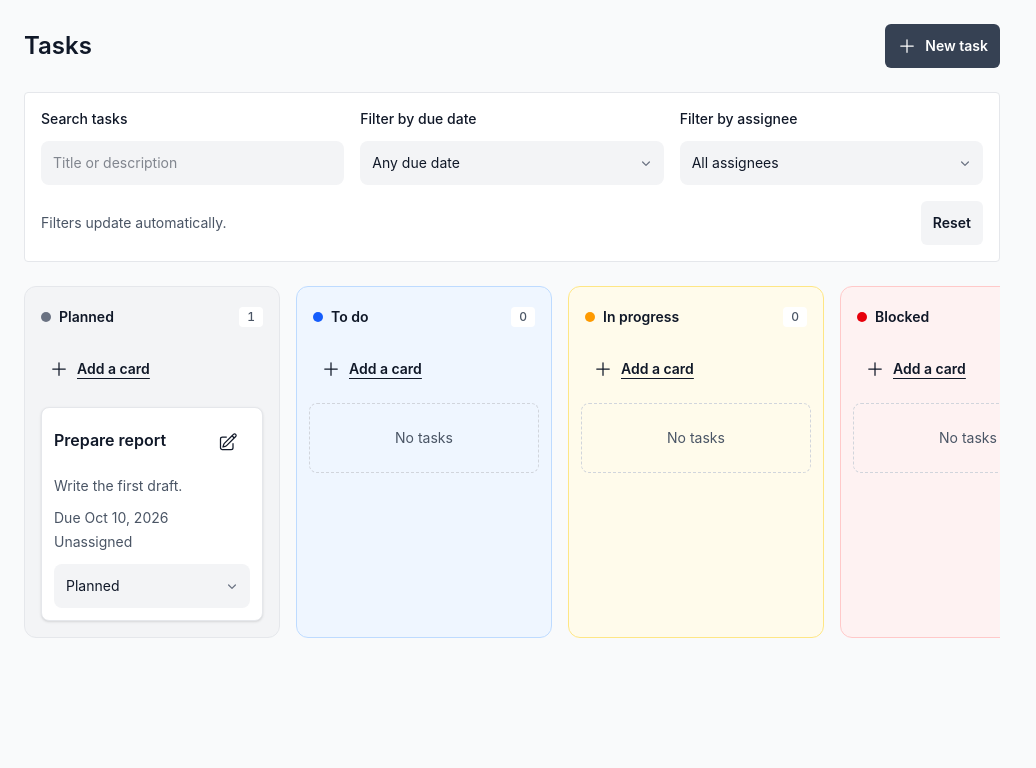
it: moves a task with the status select
Click the button with aria-label "Status for Prepare report" at coordinates (152, 586), box [54,564,250,608]
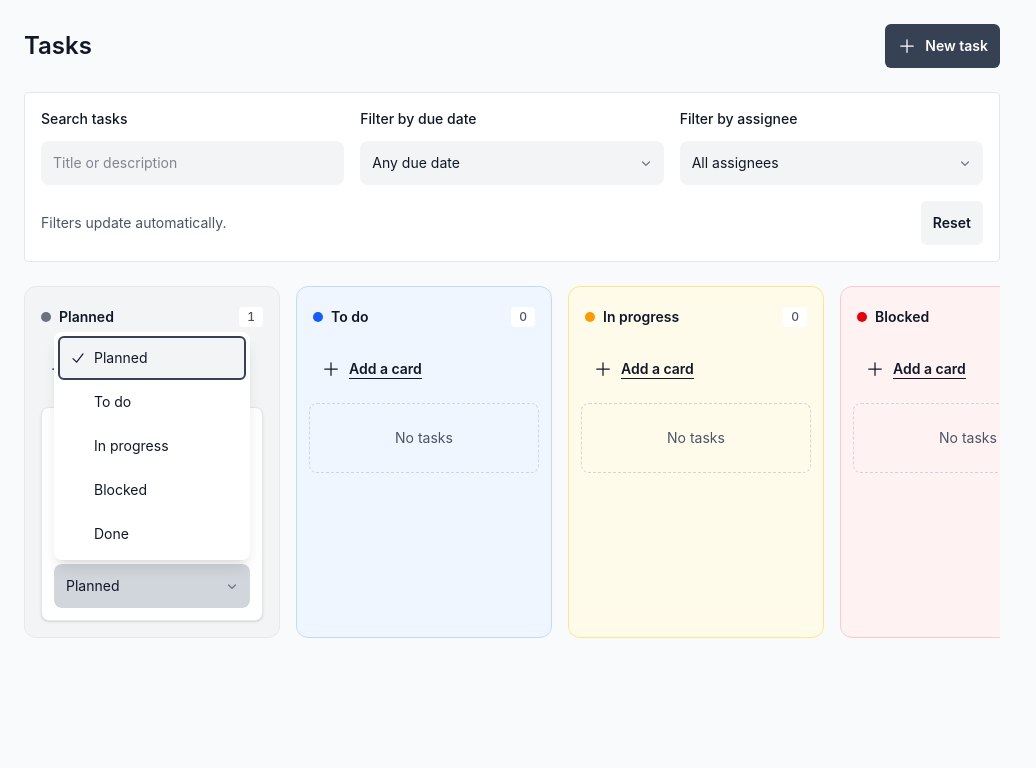
Click the option "Done" at coordinates (111, 534), box [94,525,129,542]
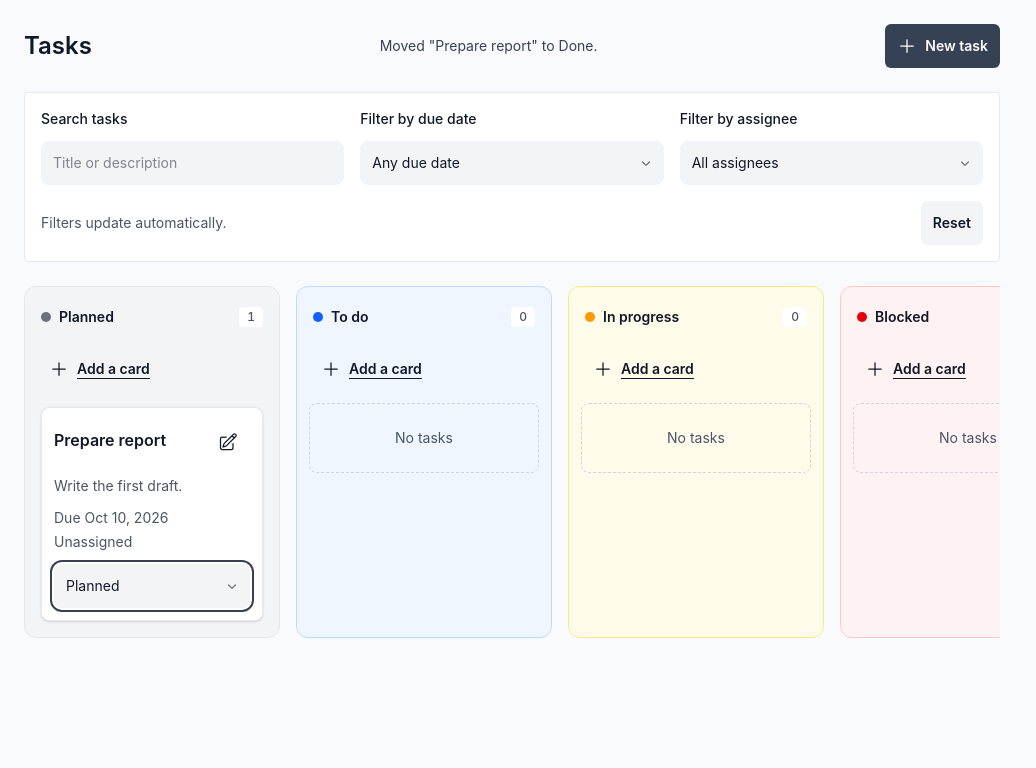
Expected: the text "Moved \"Prepare report\" to Done." is shown, [380,36,598,56]
